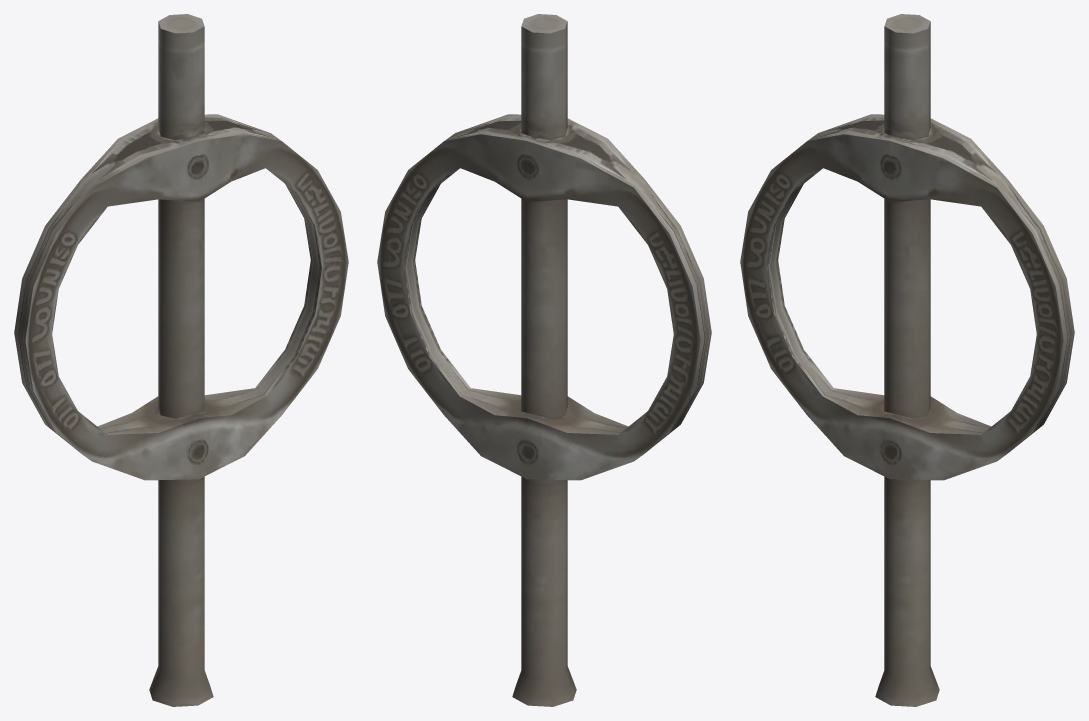
File: bike-ring.glb
3 views of the same model, side by side, from view 1: azimuth 30°, elevation 25°; view 2: azimuth 150°, elevation 25°; view 3: azimuth 330°, elevation 25° (orthographic).
Parts seen in each view (by area): view 1: low; view 2: low; view 3: low.
Boxes of the visible parts, bbox=[...] form: low: bbox=[14, 14, 348, 706]; low: bbox=[377, 14, 711, 706]; low: bbox=[740, 14, 1074, 706].
Size of the model in its own units: 0.4701 by 0.93 by 0.088.
1 material, 1 textured.
